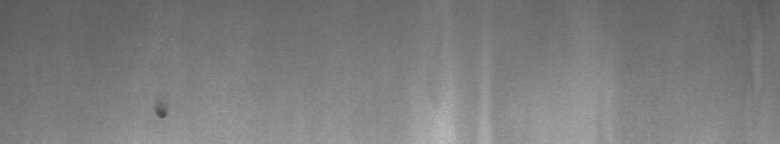fi: (152, 103, 172, 124)
